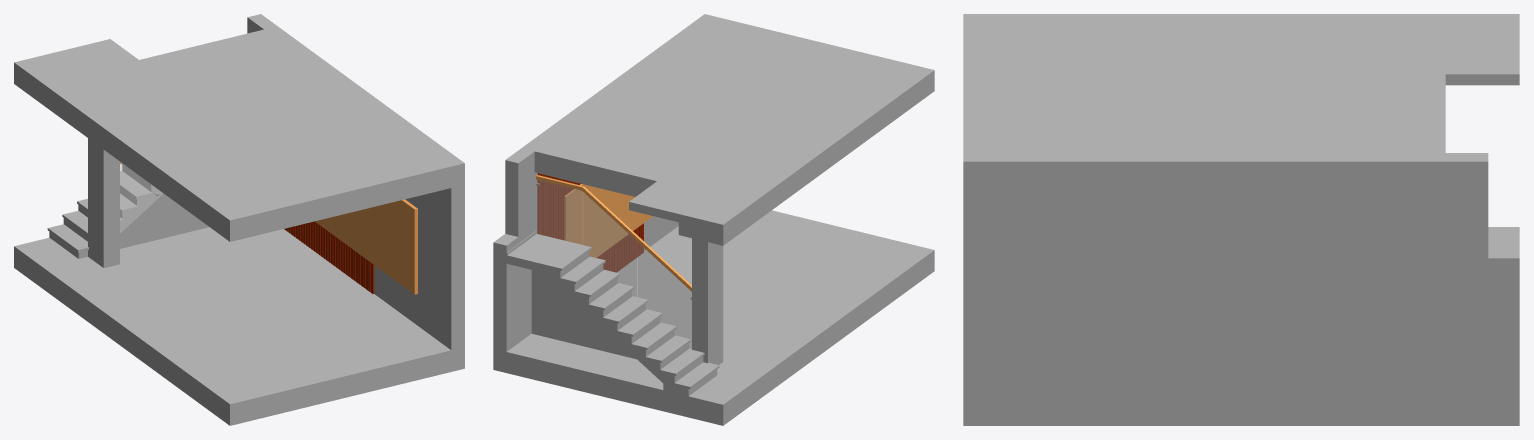
File: рейки25x60.obj
3 renders of one model, left to right at view 1: azimuth 30°, elevation 25°; view 2: azimuth 150°, elevation 25°; view 3: azimuth 270°, elevation 25°, orthographic. The views are drawn at different scales.
Bounding box in the file's own units: 4.33 × 3.62 × 6.9.
